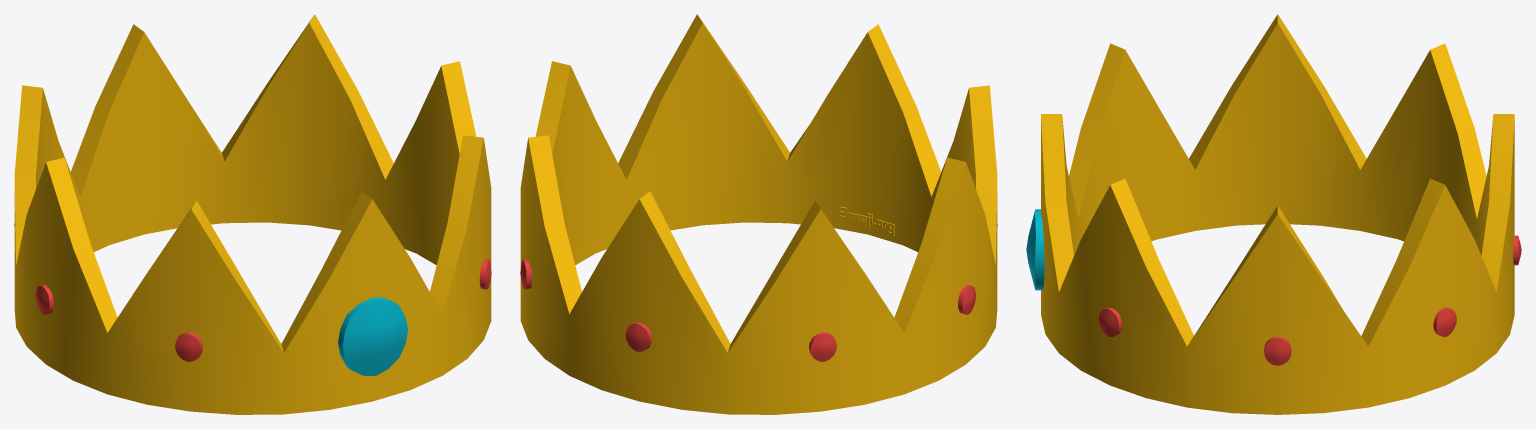
Rendered from crown.fbx.
The picture shows the model from 3 angles, left to right: view 1: azimuth 30°, elevation 25°; view 2: azimuth 150°, elevation 25°; view 3: azimuth 270°, elevation 25°; orthographic projection.
Visible parts, largest first — view 1: Circle.1810; view 2: Circle.1810; view 3: Circle.1810.
Part boxes in pixels (<box>): Circle.1810: <box>14,14,491,414</box>; Circle.1810: <box>520,14,997,414</box>; Circle.1810: <box>1026,14,1521,414</box>.
Size of the model in its own units: 205 by 93.43 by 209.
Materials: 1 (1 with a texture image).
